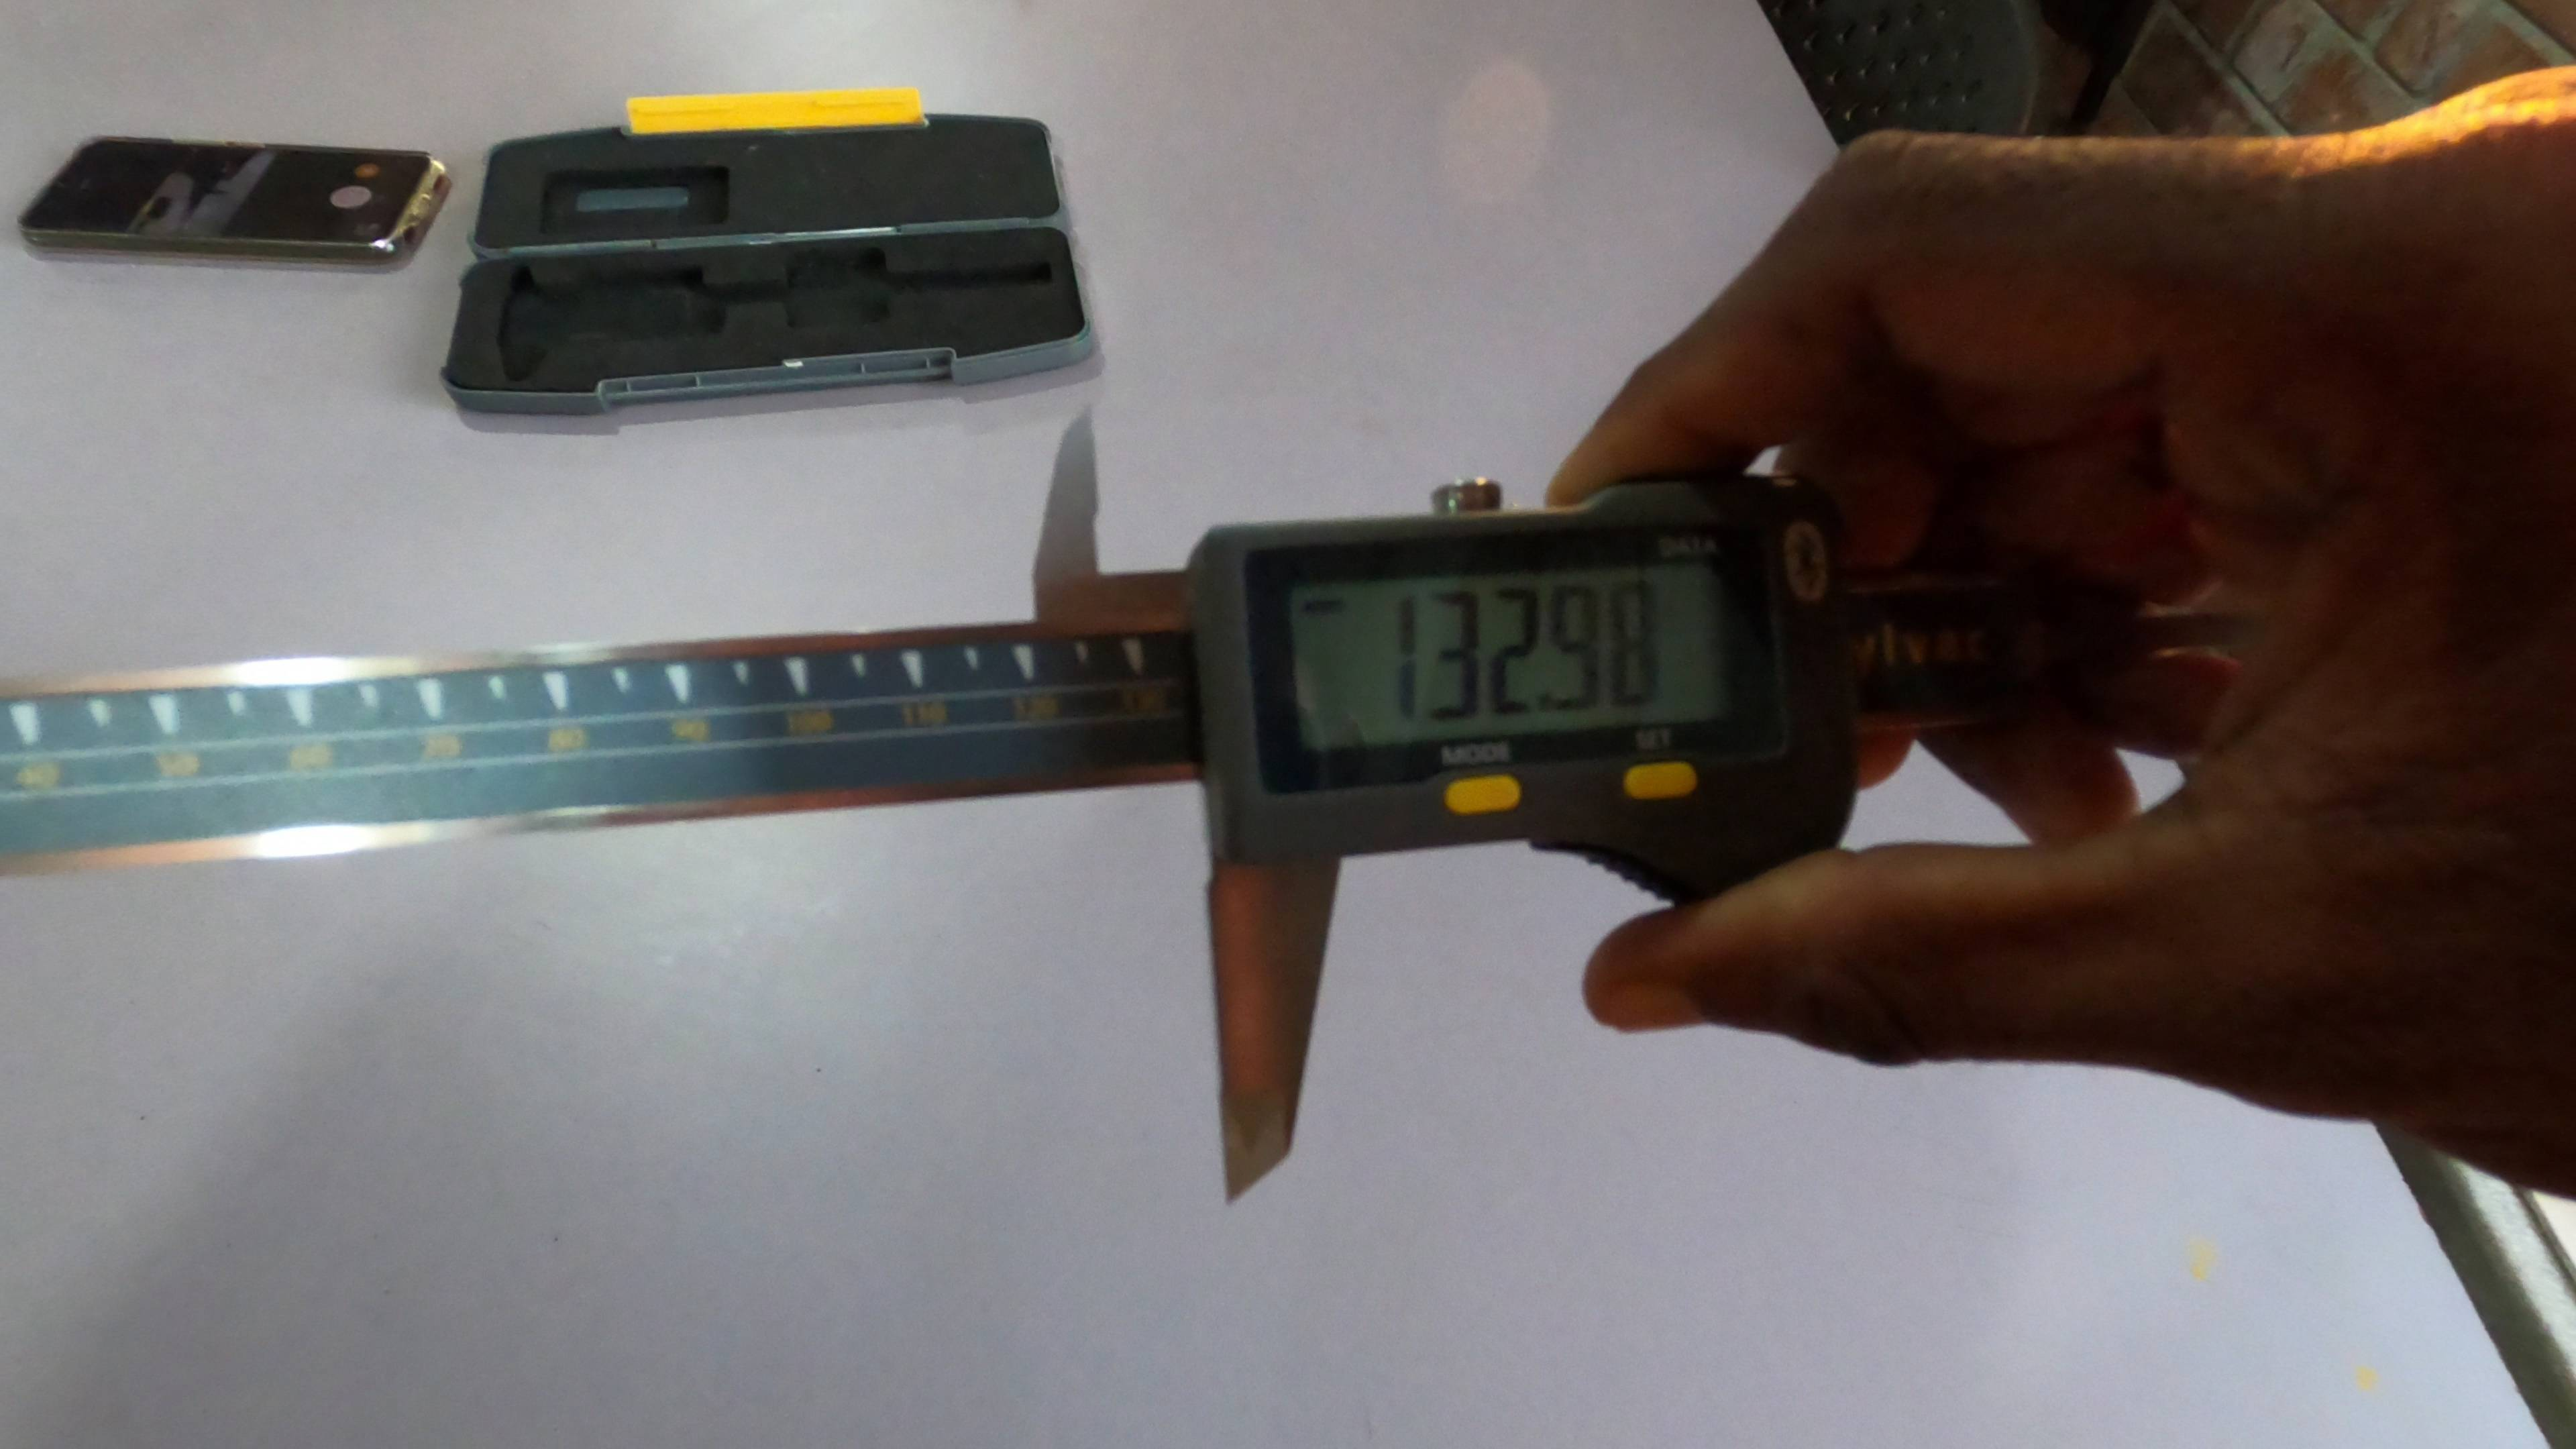vernier_caliper: (7, 400, 1902, 1208)
